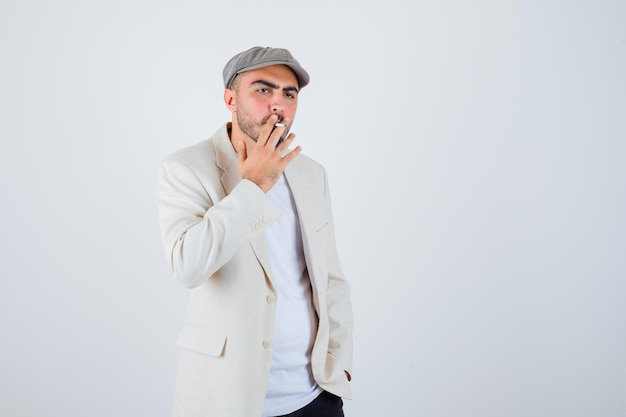cigarette: (273, 122, 289, 128)
